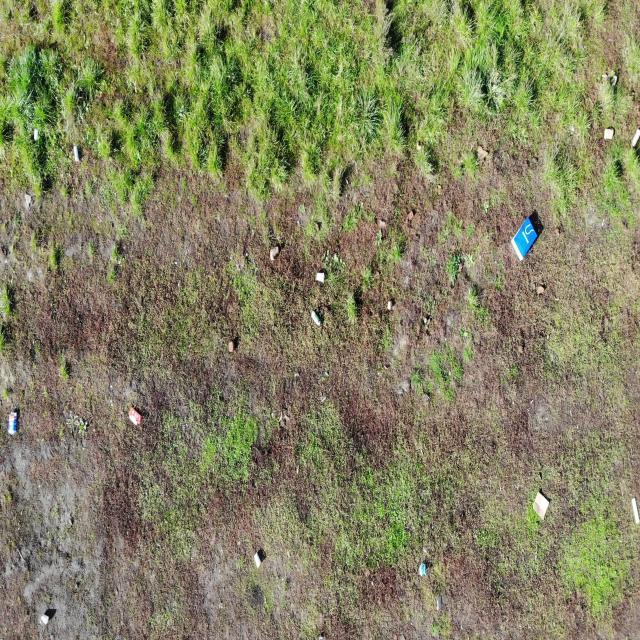rubbish: (510, 216, 539, 263), (532, 489, 551, 521), (128, 407, 143, 428), (7, 410, 18, 435), (630, 496, 639, 526), (309, 310, 322, 328), (631, 128, 639, 151), (253, 553, 263, 570), (270, 245, 280, 262), (417, 561, 427, 578), (314, 271, 326, 284), (39, 616, 51, 629), (603, 129, 614, 141), (73, 144, 79, 164), (33, 129, 38, 146), (227, 341, 234, 352), (315, 634, 326, 639)
